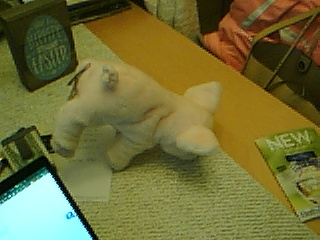piggy: (49, 58, 225, 172)
